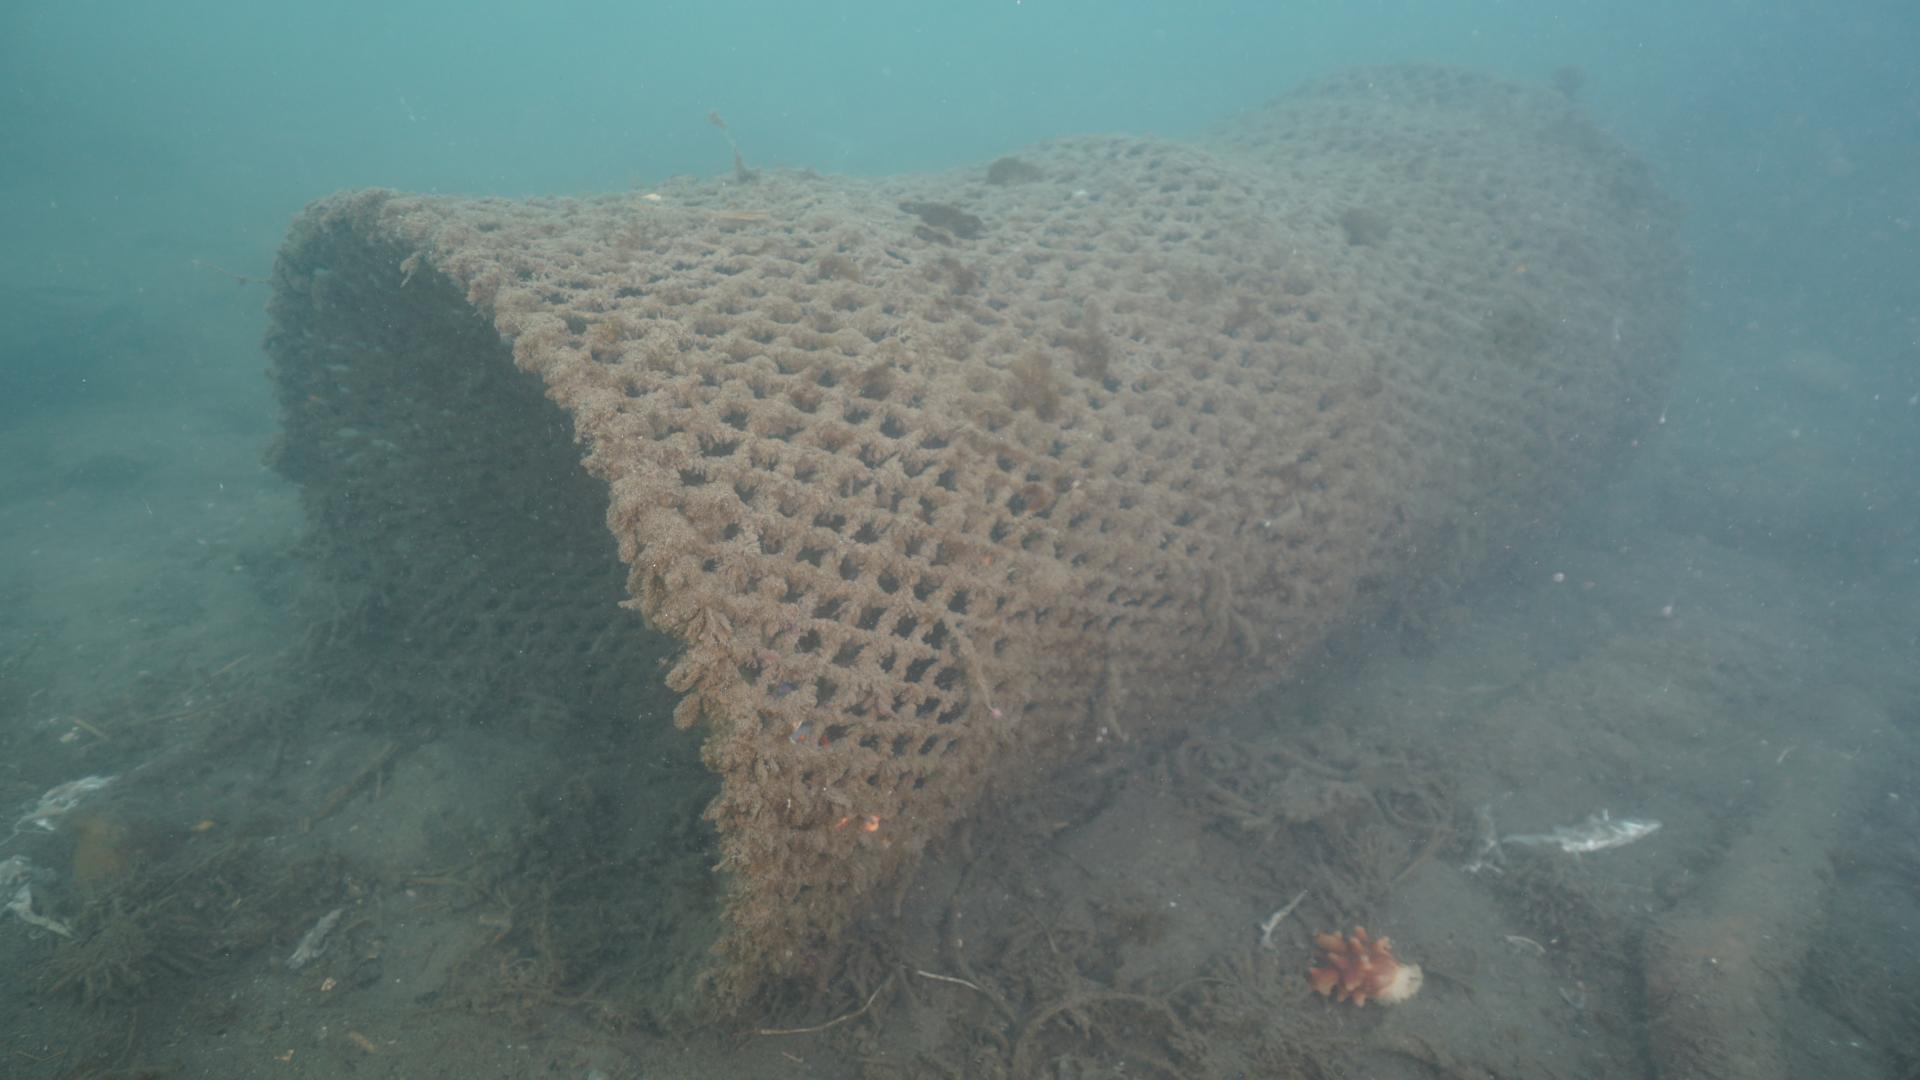spring fish trap: (268, 49, 1691, 1042)
